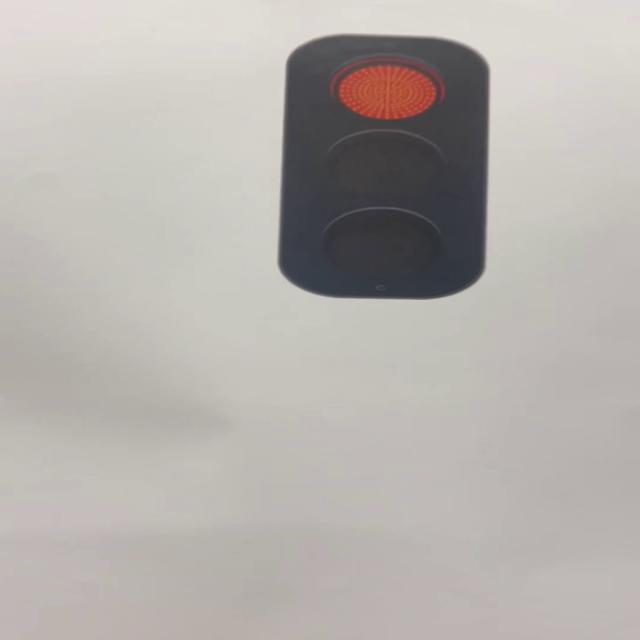red: (277, 32, 490, 300)
